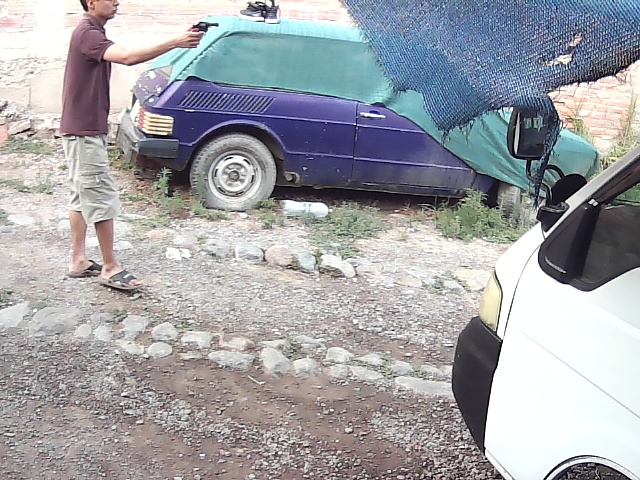pistola: (185, 13, 224, 42)
